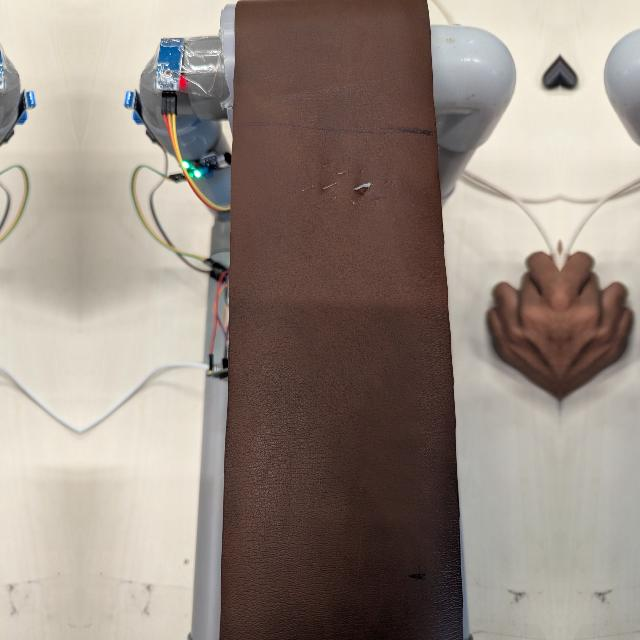belt_crack: (292, 159, 405, 208)
